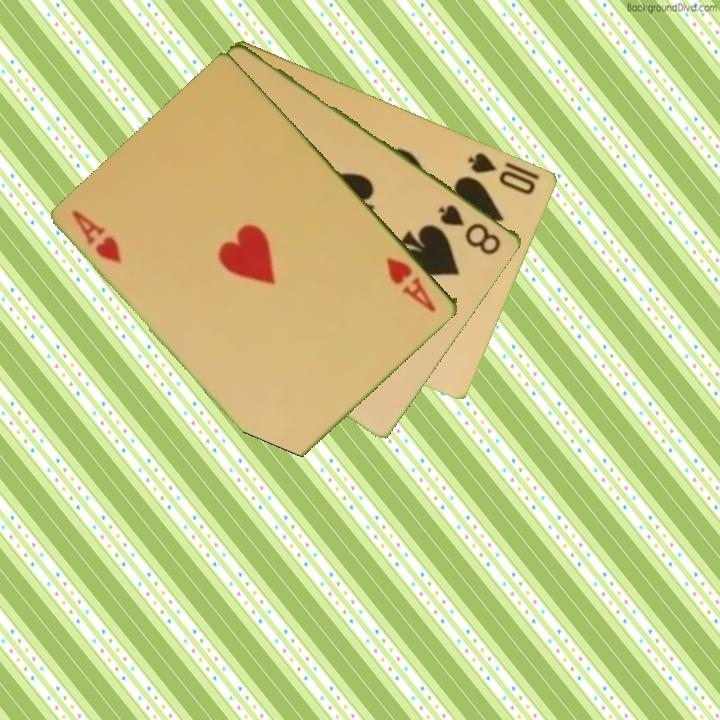10s: (464, 148, 539, 198)
8s: (435, 200, 505, 258)
Ah: (383, 253, 440, 315), (69, 206, 125, 267)
